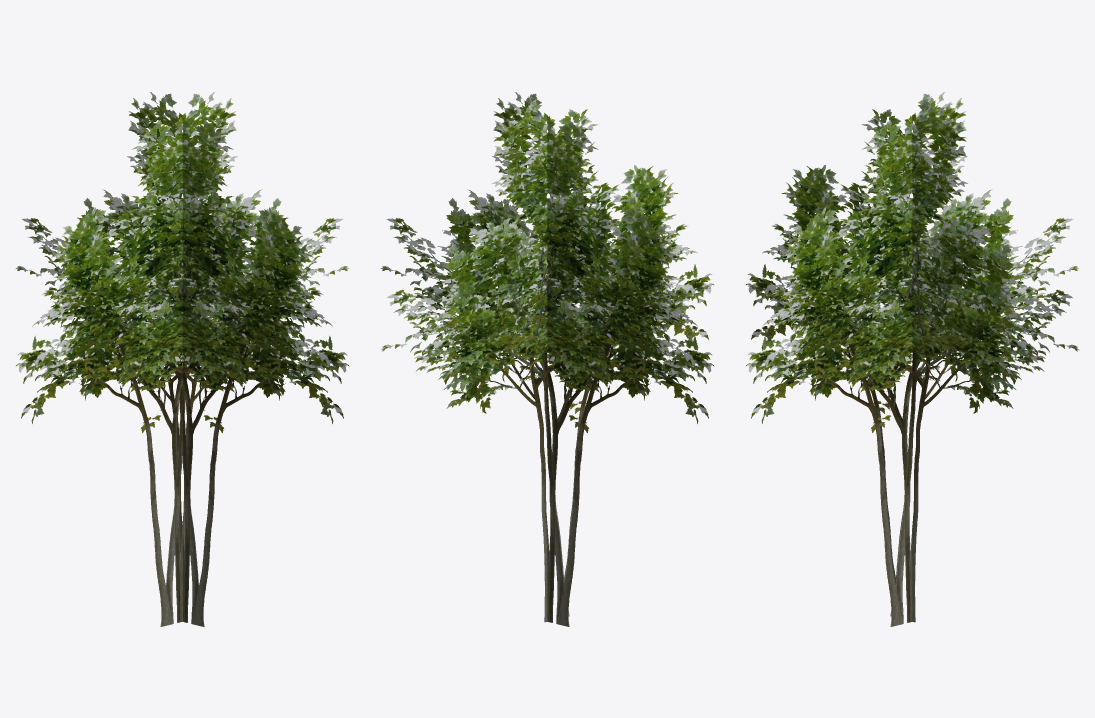
Rendered from tree_maple_lod3.glb.
3 renders of one model, left to right at view 1: azimuth 30°, elevation 25°; view 2: azimuth 150°, elevation 25°; view 3: azimuth 270°, elevation 25°, orthographic.
Parts seen in each view (by area): view 1: Maple_tree1_LOD3; view 2: Maple_tree1_LOD3; view 3: Maple_tree1_LOD3.
Part boxes in pixels (x1=…): Maple_tree1_LOD3: x1=15, y1=92, x2=349, y2=626; Maple_tree1_LOD3: x1=380, y1=92, x2=714, y2=626; Maple_tree1_LOD3: x1=745, y1=92, x2=1079, y2=626.
Size of the model in its own units: 2.48 by 3.71 by 2.15.
1 material, 1 textured.
